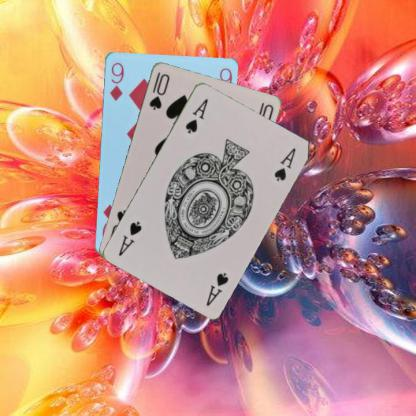10s: (146, 69, 171, 111)
9d: (107, 60, 125, 102)
As: (183, 95, 209, 135), (203, 270, 230, 308)
